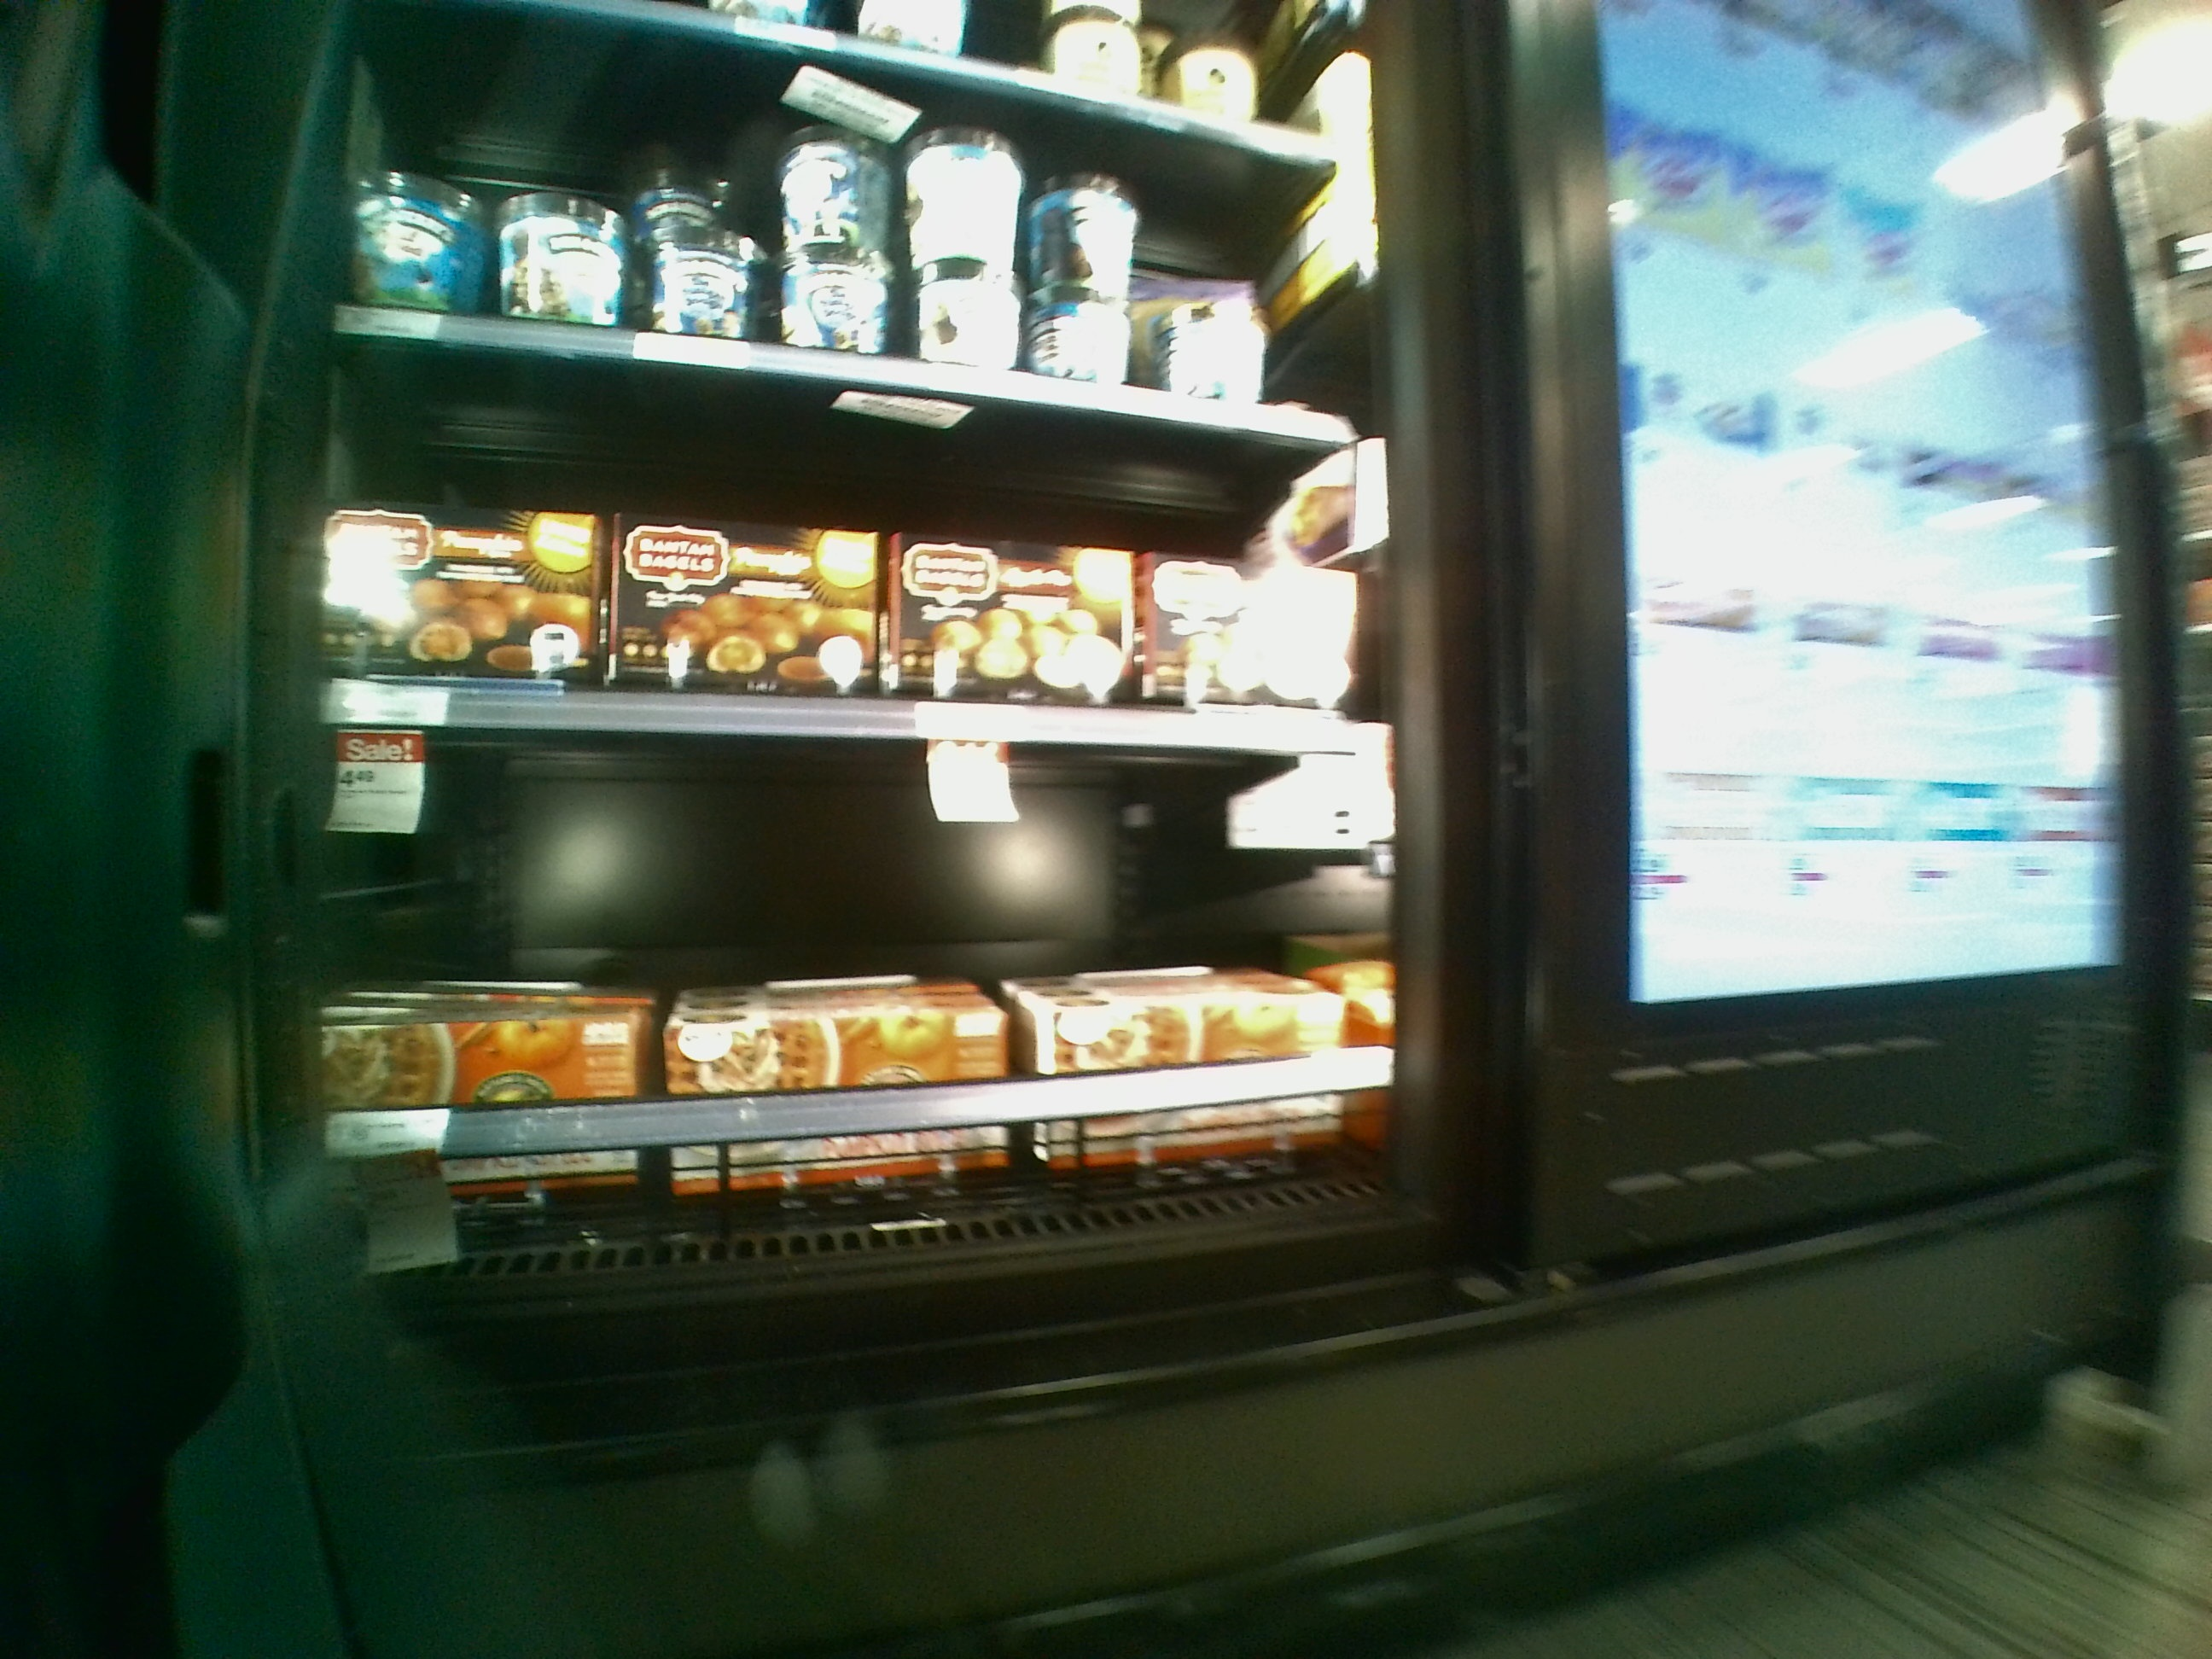shelf: (301, 735, 1437, 1260), (298, 347, 1413, 760)
